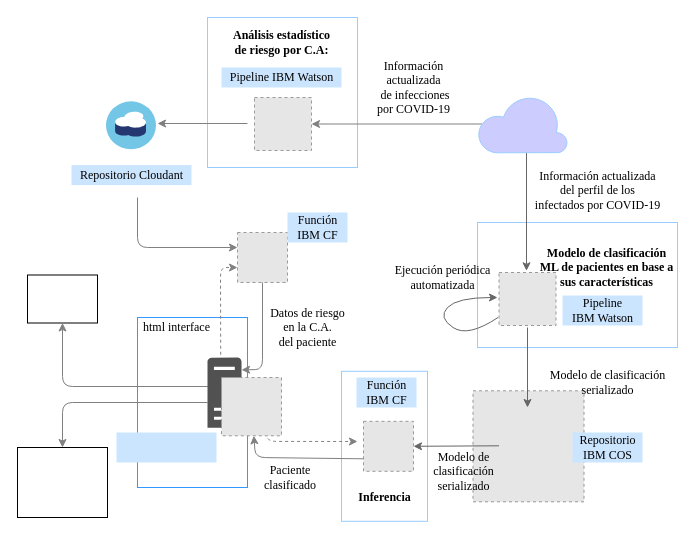
This 699x539 diagram has some shape labels left out. Grey dashed boxes stand in for pictures. The shapes that lost their labels are listed below. From the top down, each one's centre as x and y in pixels, then its label:
At [62,298]: "Datos del paciente".
At [166,447]: "Servidor alojado en Kubernetes".
At [62,482]: "Riesgo por C.A. y características del paciente".
